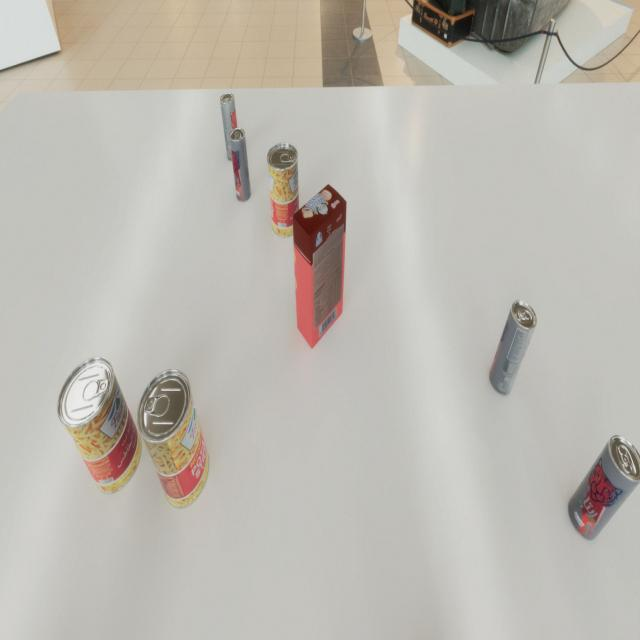HelloPanda: (292, 184, 346, 349)
Potato_sticks: (57, 356, 142, 494), (137, 369, 209, 508), (267, 142, 300, 238)
Rita_zero_sugar: (568, 435, 640, 540), (489, 300, 537, 396), (229, 128, 251, 202), (220, 92, 240, 162)
